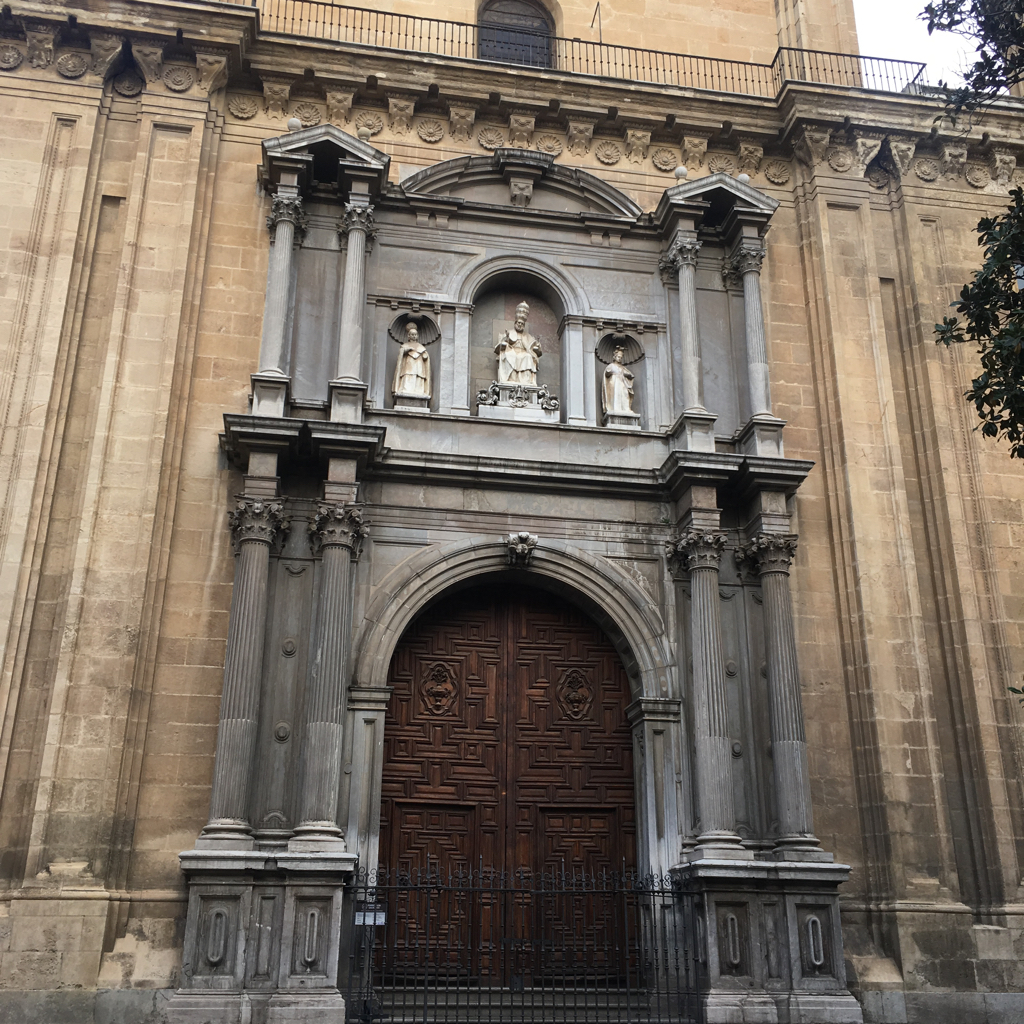arco-medio-punto: (370, 556, 657, 736), (463, 262, 575, 334)
fronton-curvo: (402, 149, 643, 229)
fronton-partido: (261, 120, 392, 182), (664, 170, 780, 220)
serliana: (363, 252, 666, 442)
